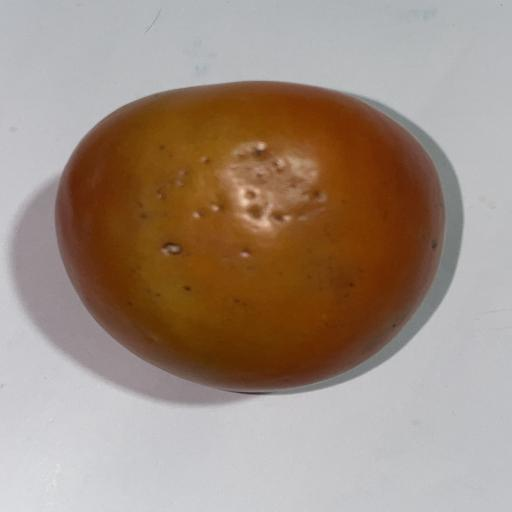unripe: (55, 82, 445, 392)
